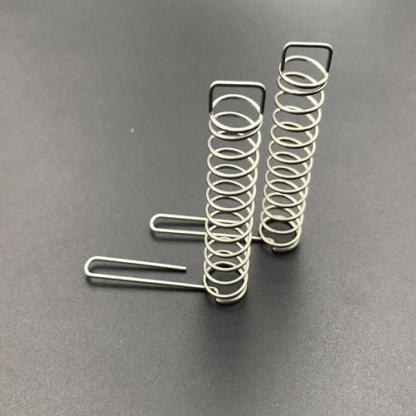FOD: (81, 78, 268, 308), (148, 37, 335, 254)
